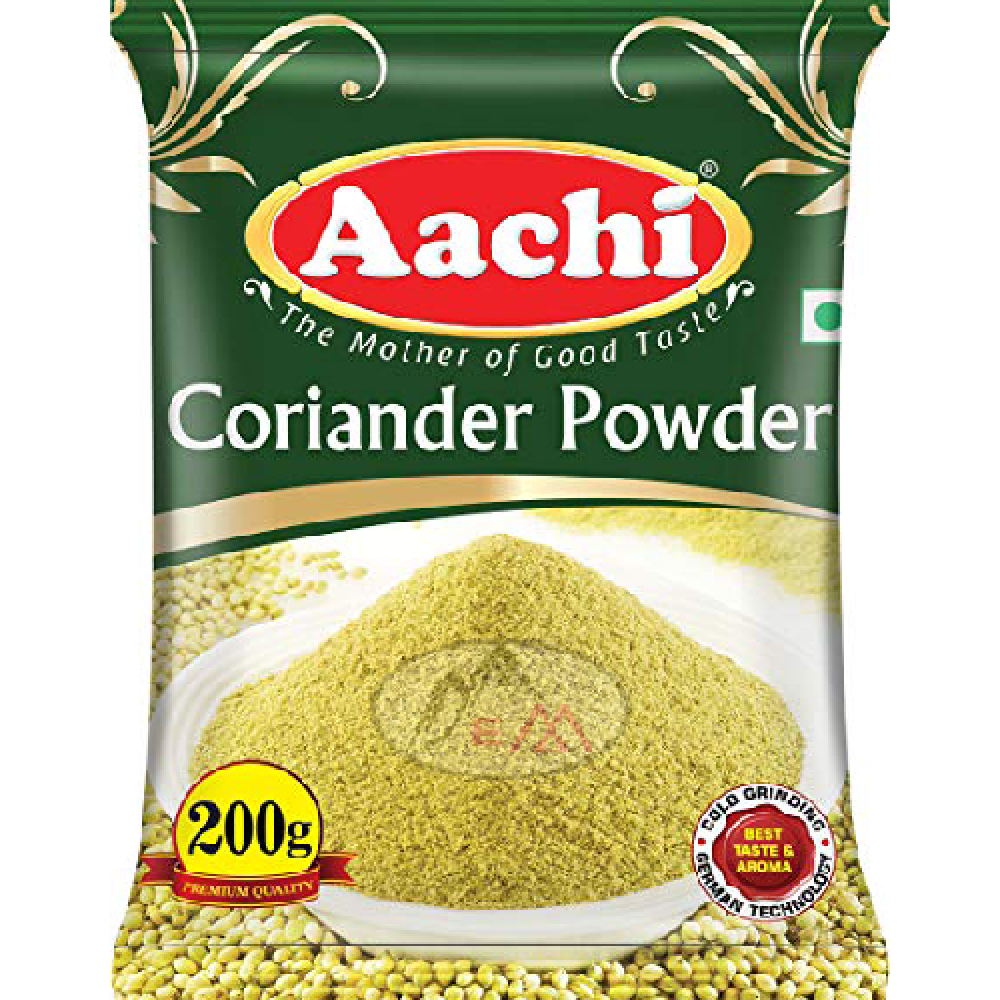VEG: (798, 287, 847, 348)
